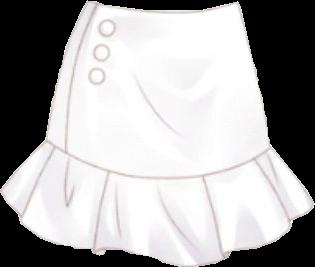Hemline: (0, 188, 314, 266)
Waistline: (44, 137, 270, 178), (86, 0, 237, 13)
